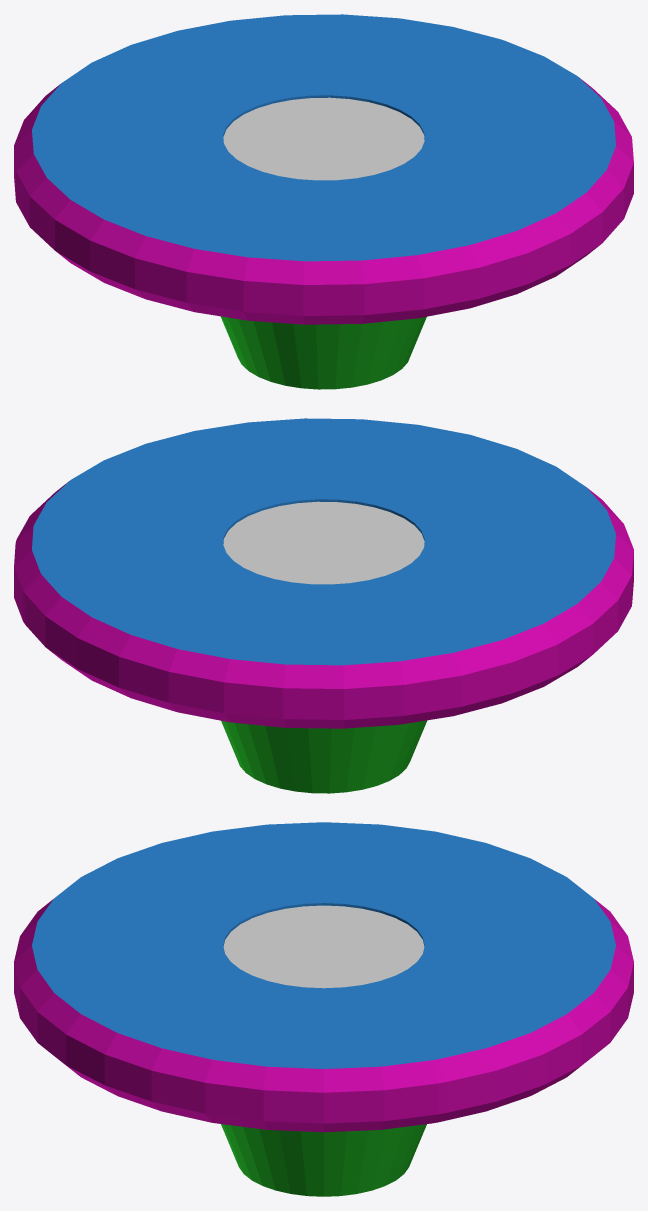
The model's file is Plateforme mobile.dae.
3 renders of one model, top to bottom at view 1: azimuth 30°, elevation 25°; view 2: azimuth 150°, elevation 25°; view 3: azimuth 270°, elevation 25°, orthographic.
Parts seen in each view (by area): view 1: Cube.029_Cube.030 (×4); view 2: Cube.029_Cube.030 (×4); view 3: Cube.029_Cube.030 (×4).
Part boxes in pixels (bbox=[...]): Cube.029_Cube.030 (×4): bbox=[14, 14, 633, 389]; Cube.029_Cube.030 (×4): bbox=[14, 418, 633, 793]; Cube.029_Cube.030 (×4): bbox=[14, 822, 633, 1196].
Bounding box in the file's own units: 4.81 × 1.86 × 4.81.
